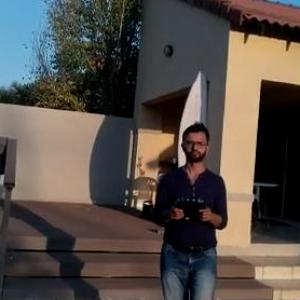follow: (149, 116, 229, 299)
